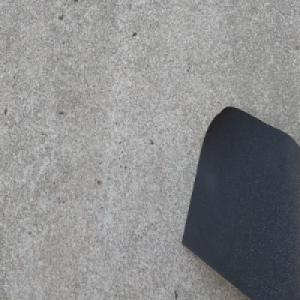PaintChip: (180, 102, 300, 300)
